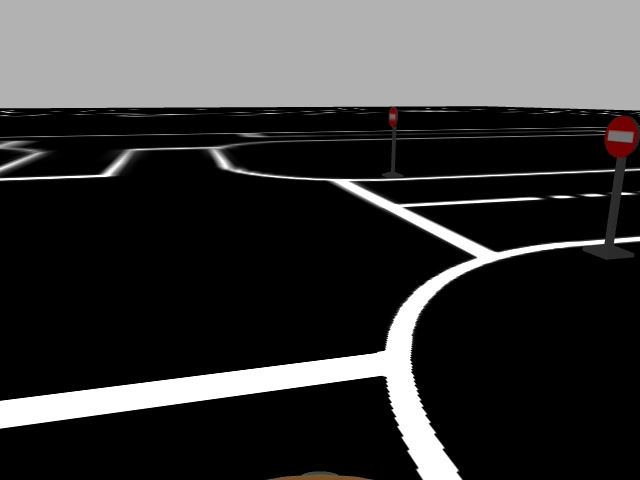prohibited: (604, 113, 638, 161), (388, 105, 398, 128)
